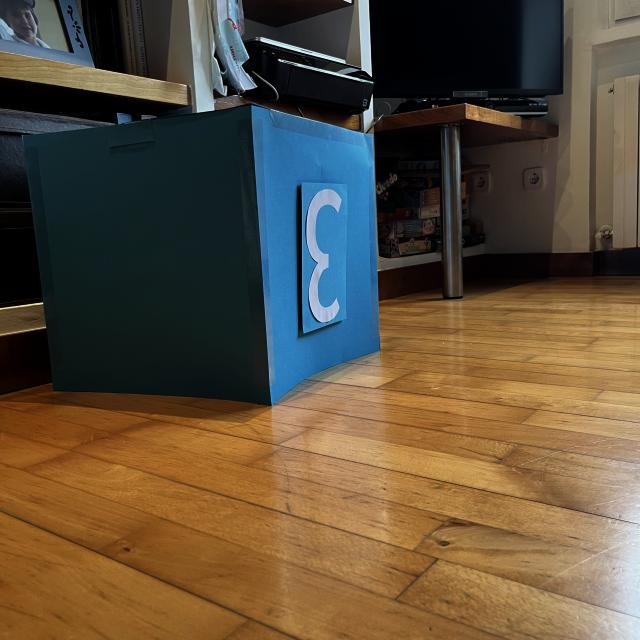box: (21, 101, 386, 409)
